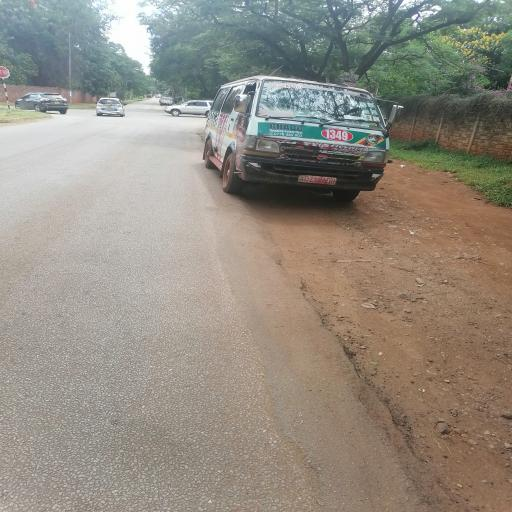number-plates: (295, 169, 357, 189)
